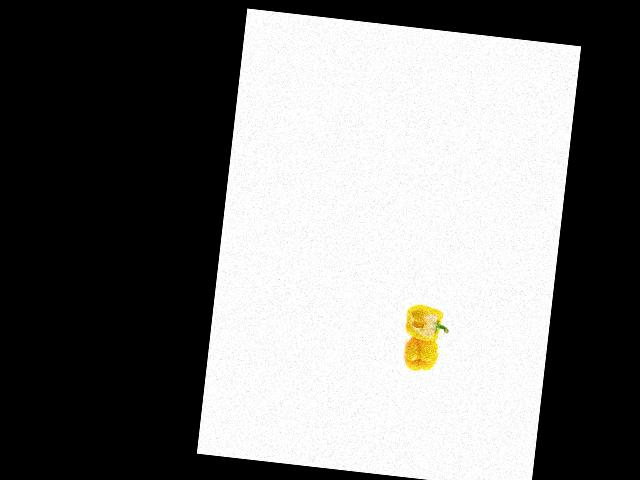bell_pepper: (395, 300, 452, 350)
